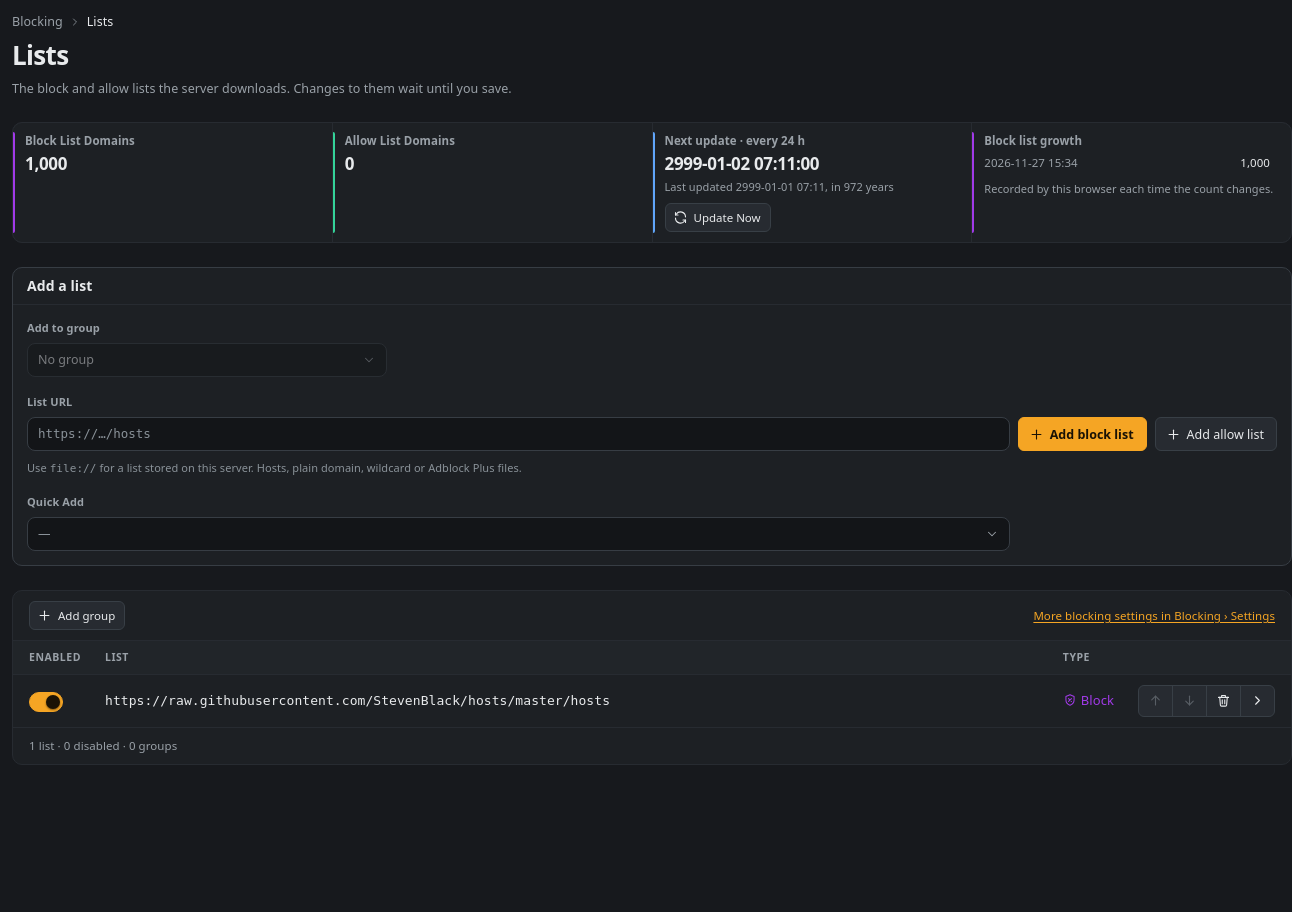
it: Save and Update Now › a save that already has the server downloading the lists asks for no second download
This screenshot has width=1292, height=912.
Click the checkbox named "Enabled": (46, 702) [29, 692, 63, 712]
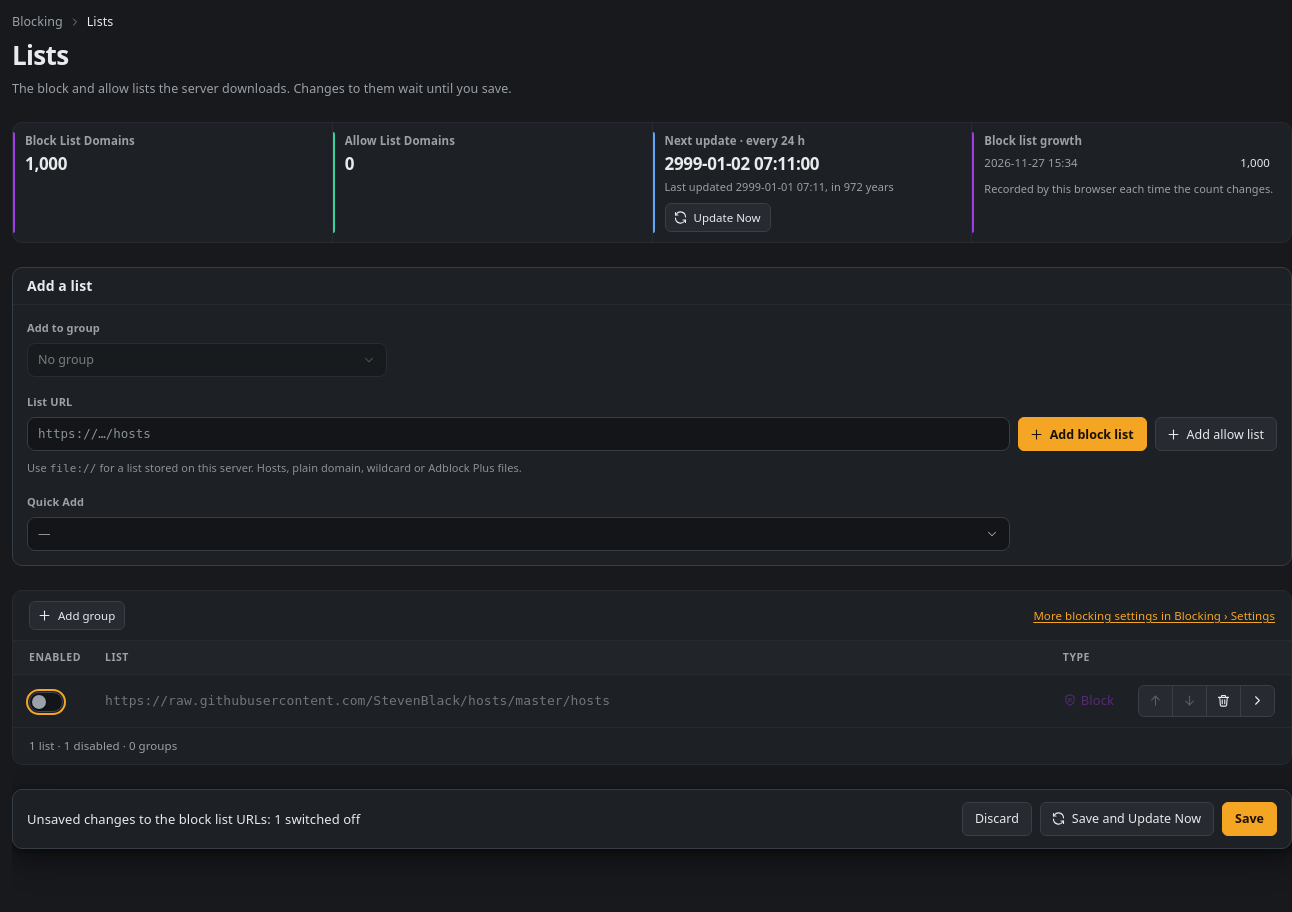
Click the button "Save and Update Now": (1127, 819) [1040, 802, 1214, 836]
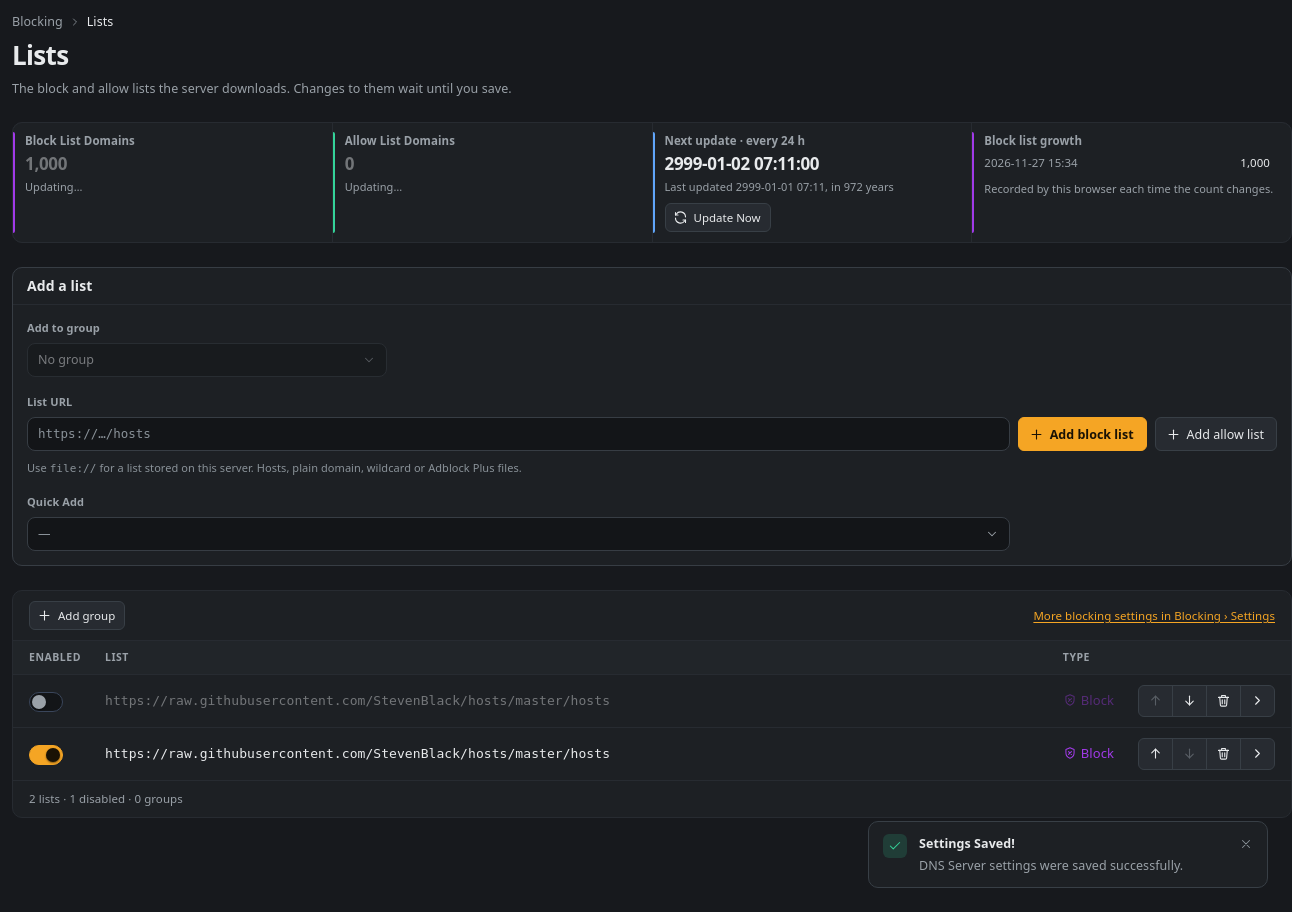
Expected: the text "DNS Server settings were saved successfully." is shown, [919, 857, 1183, 874]
